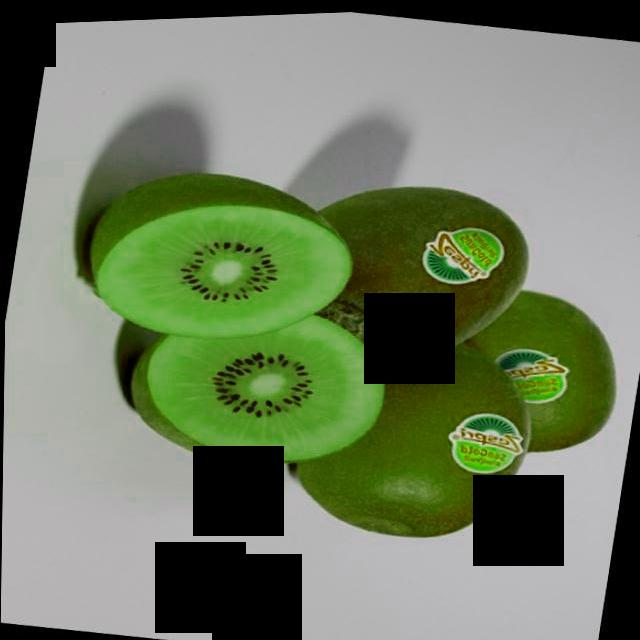kiwi: (254, 315, 547, 558), (277, 164, 542, 385)
